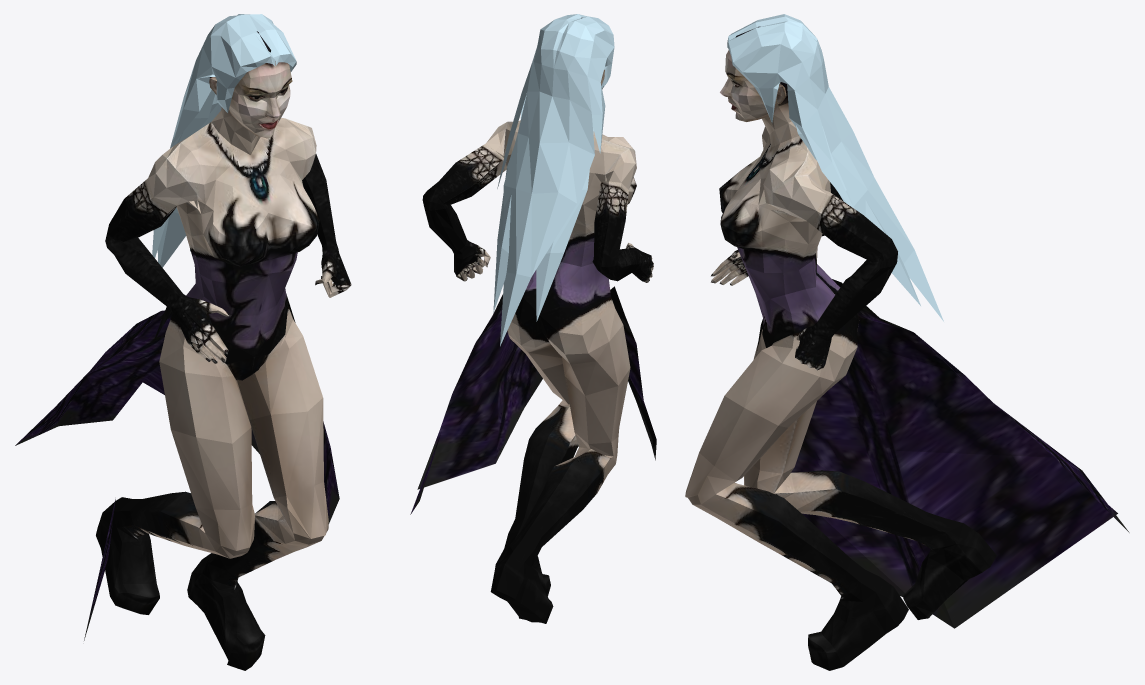
Rendered from running_010.obj.
The picture shows the model from 3 angles, left to right: view 1: azimuth 30°, elevation 25°; view 2: azimuth 150°, elevation 25°; view 3: azimuth 270°, elevation 25°; orthographic projection. The views are drawn at different scales.
Parts seen in each view (by area): view 1: Plane.001_Plane.007, Plane.003_Plane.008, capelli.001_Plane.006; view 2: Plane.001_Plane.007, capelli.001_Plane.006, Plane.003_Plane.008; view 3: Plane.001_Plane.007, Plane.003_Plane.008, capelli.001_Plane.006.
Boxes of the visible parts, x1,y1,x2,y2 form: Plane.001_Plane.007: (96,31,351,670); Plane.003_Plane.008: (15,294,339,640); capelli.001_Plane.006: (152,14,296,267); Plane.001_Plane.007: (422,17,653,623); capelli.001_Plane.006: (493,14,614,346); Plane.003_Plane.008: (410,286,656,514); Plane.001_Plane.007: (685,26,996,670); Plane.003_Plane.008: (756,279,1129,628); capelli.001_Plane.006: (727,14,943,321).
Bounding box in the file's own units: 1.72 × 5.04 × 3.17.
